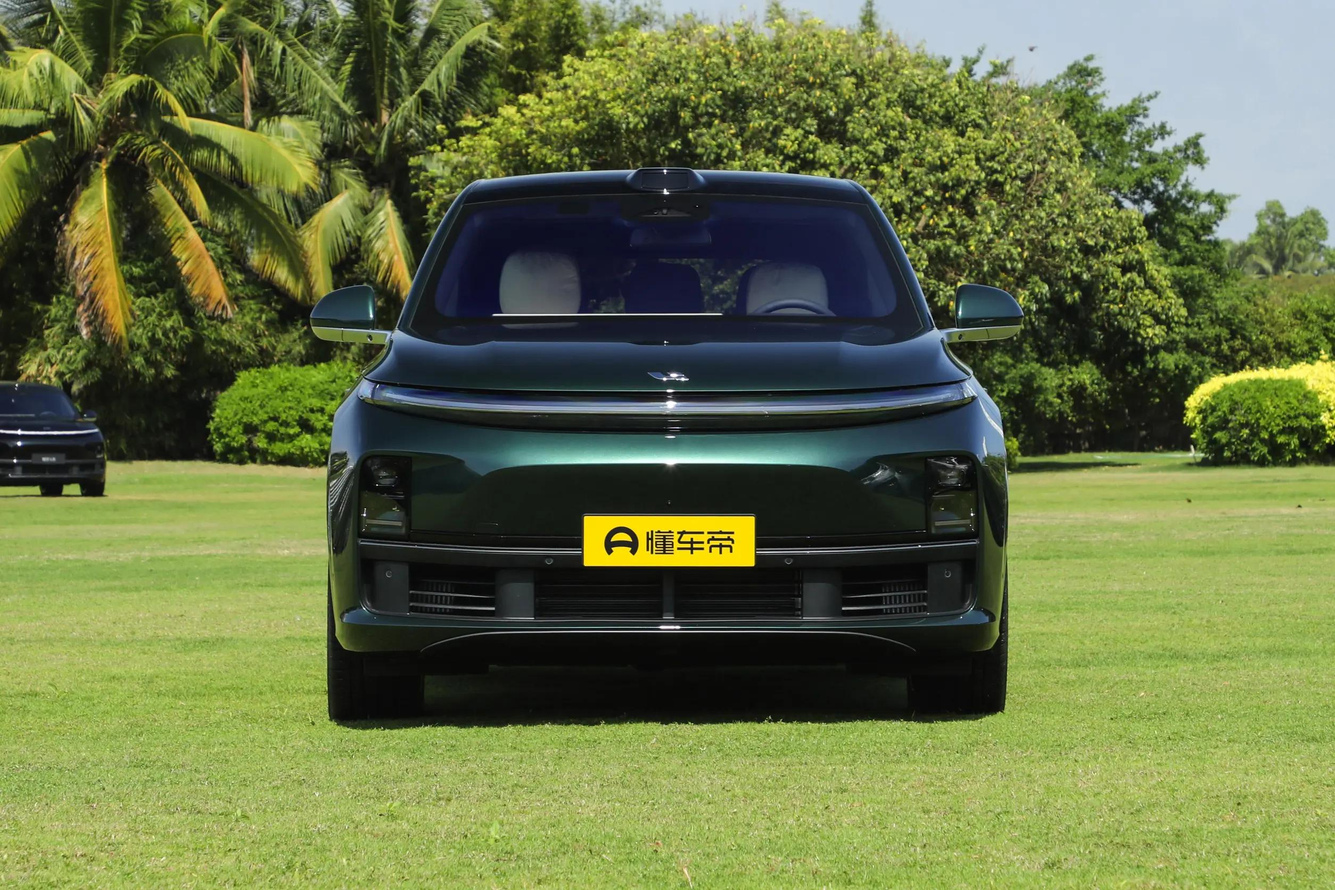Li Auto: (647, 370, 690, 382)
